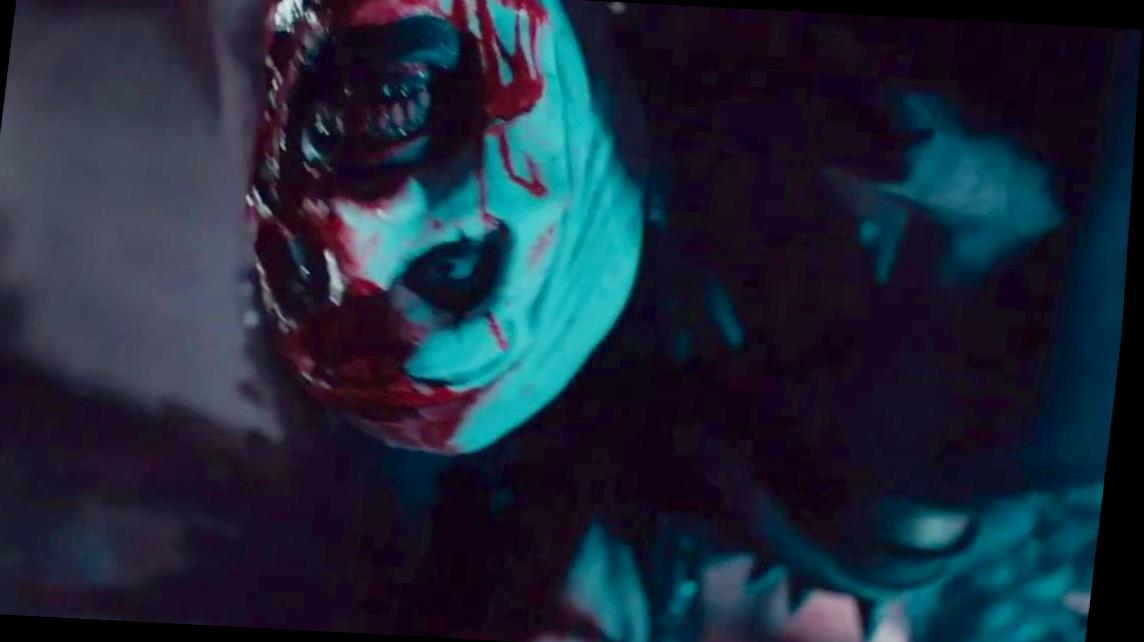Fire: (248, 0, 600, 452), (541, 526, 660, 642)
